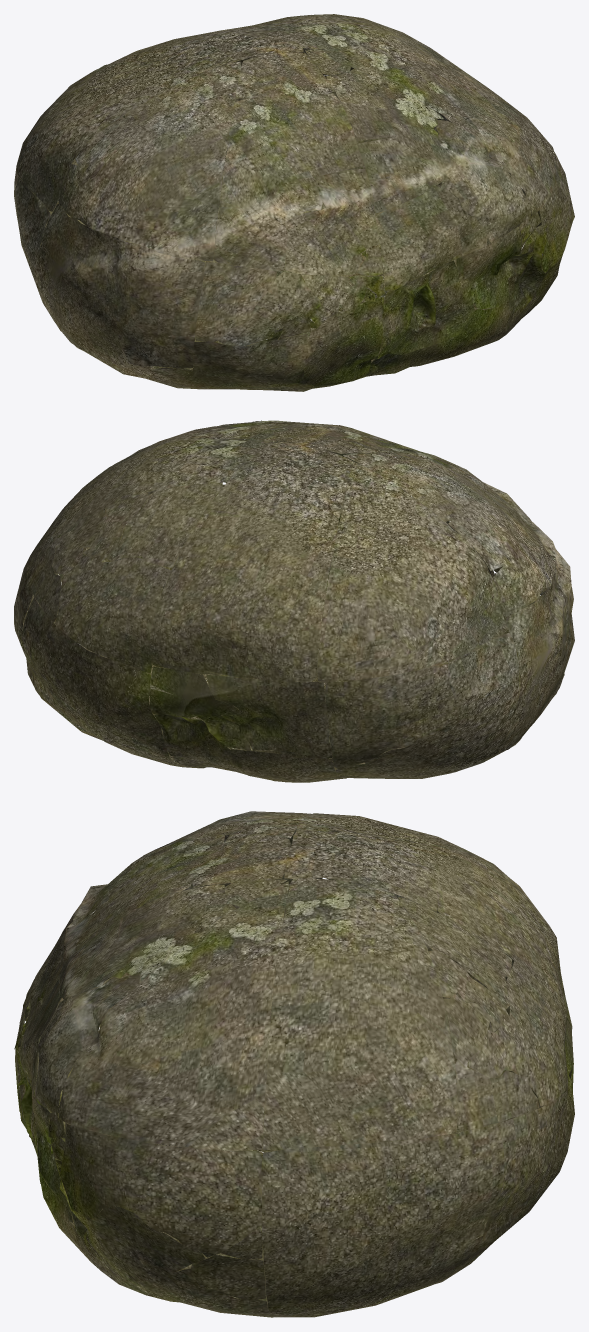
The model's file is rock_stone.glb.
The picture shows the model from 3 angles, top to bottom: view 1: azimuth 30°, elevation 25°; view 2: azimuth 150°, elevation 25°; view 3: azimuth 270°, elevation 25°; orthographic projection. The views are drawn at different scales.
Visible parts, largest first — view 1: rock_stone; view 2: rock_stone; view 3: rock_stone.
Part boxes in pixels (left/top/right/bottom): rock_stone: left=14, top=14, right=574, bottom=391; rock_stone: left=14, top=420, right=574, bottom=782; rock_stone: left=14, top=811, right=574, bottom=1317.
Bounding box in the file's own units: 0.5555 × 0.3199 × 0.4579.
1 material, 1 textured.
